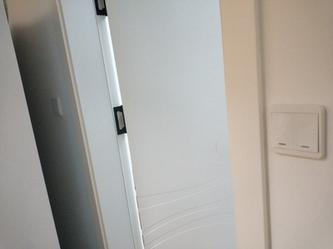switch: (296, 114, 316, 155), (275, 114, 293, 151)
